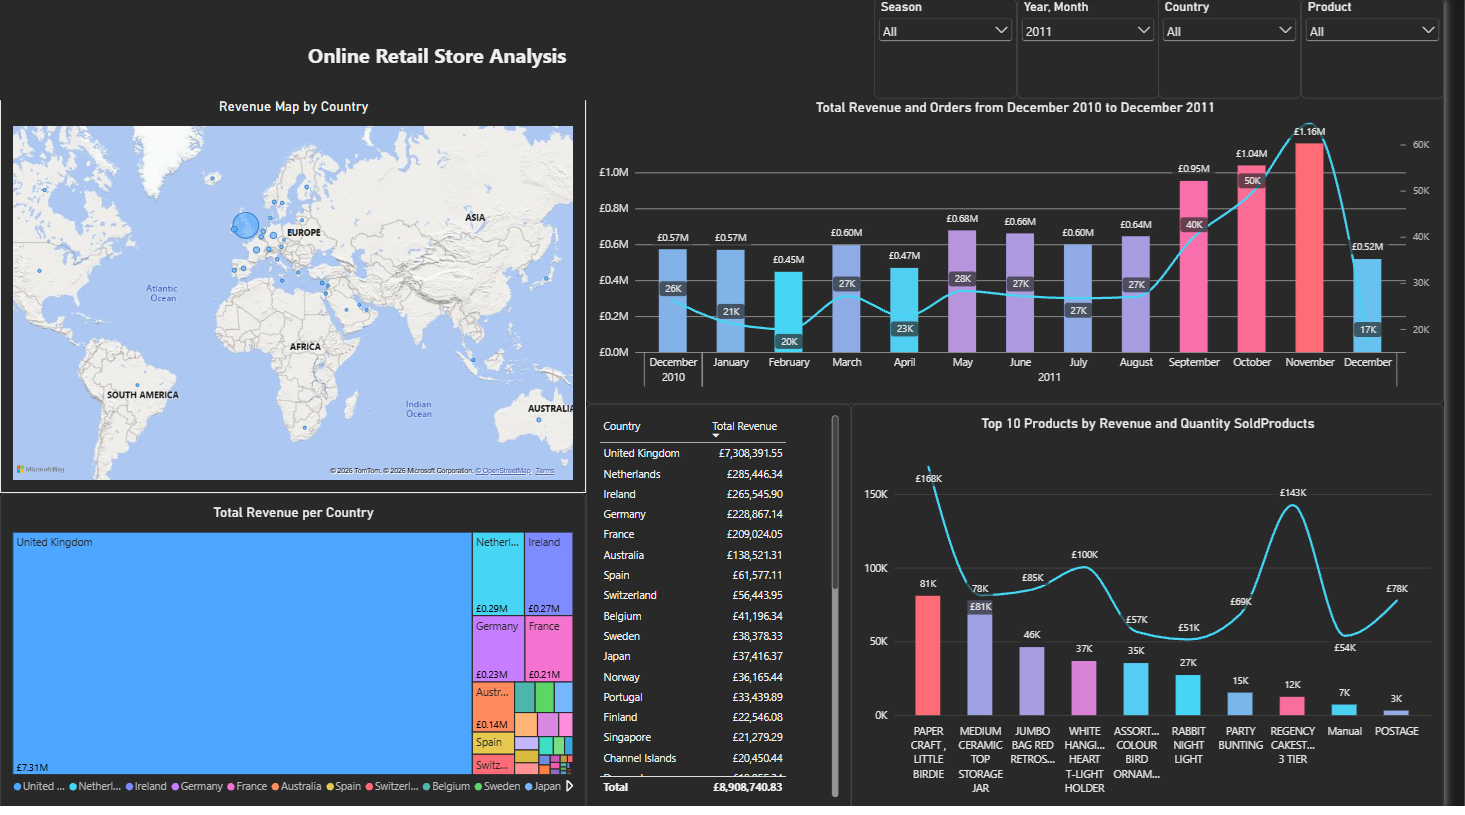

The dashboard page shown, as its layout file describes it:
{"tool":"powerbi","page":{"name":"Sales Overview","canvas":[1920,1080],"ordinal":0},"visuals":[{"type":"lineStackedColumnComboChart","title":"Total Revenue and Orders from December 2010 to December 2011","fields":{"Category":["Sales_data.invoicedate.Variation.Date Hierarchy.Year","Sales_data.invoicedate.Variation.Date Hierarchy.Month"],"Y":["_measures.revenue"],"Y2":["CountNonNull(Sales_data.invoiceno)"]},"box":[779.1,118.2,1140.9,421.6],"z":0},{"type":"map","title":"Revenue Map by Country","fields":{"Category":["Sales_data.country"],"Size":["CountNonNull(Sales_data.Revenue)"]},"box":[0,118.2,779.1,539.8],"z":1000},{"type":"textbox","box":[0,0,1162.5,135.7],"z":2000},{"type":"slicer","fields":{"Values":["analysis_snapshot.analysis_date.Variation.Date Hierarchy.Year","analysis_snapshot.analysis_date.Variation.Date Hierarchy.Month"]},"box":[1352.5,0,189,134],"z":3000},{"type":"slicer","fields":{"Values":["Sales_data.country"]},"box":[1540.7,0,189.7,134.2],"z":4000},{"type":"slicer","fields":{"Values":["Sales_data.description"]},"box":[1730.3,0,189.7,134.2],"z":5000},{"type":"tableEx","fields":{"Values":["Sales_data.country","_measures.revenue"]},"box":[779.1,539.8,353.1,539.8],"z":6000},{"type":"lineClusteredColumnComboChart","title":"Top 10 Products by Revenue and Quantity SoldProducts","fields":{"Category":["Sales_data.description"],"Y":["Sum(Sales_data.quantity)"],"Y2":["_measures.revenue"]},"box":[1132.2,539.8,787.8,539.8],"z":7000},{"type":"treemap","title":"Total Revenue per Country","fields":{"Group":["Sales_data.country"],"Values":["_measures.revenue"]},"box":[0,658,779.1,421.6],"z":8000},{"type":"slicer","fields":{"Values":["Sales_data.Season"]},"box":[1162.5,0,189.7,134.2],"z":8001}]}

Visuals, with their boxes in screenshot pixels (x1, y1, x2, y2), scaled from the page's 1920x1080 canvas onto the 1465x815 screenshot:
"Total Revenue and Orders from December 2010 to December 2011" lineStackedColumnComboChart: l=594, t=89, r=1464, b=407
"Revenue Map by Country" map: l=0, t=89, r=594, b=497
textbox: l=0, t=0, r=887, b=102
slicer - analysis_snapshot.analysis_date.Variation.Date Hierarchy.Year x analysis_snapshot.analysis_date.Variation.Date Hierarchy.Month: l=1032, t=0, r=1176, b=101
slicer - Sales_data.country: l=1176, t=0, r=1320, b=101
slicer - Sales_data.description: l=1320, t=0, r=1464, b=101
tableEx - Sales_data.country x _measures.revenue: l=594, t=407, r=864, b=814
"Top 10 Products by Revenue and Quantity SoldProducts" lineClusteredColumnComboChart: l=864, t=407, r=1464, b=814
"Total Revenue per Country" treemap: l=0, t=497, r=594, b=814
slicer - Sales_data.Season: l=887, t=0, r=1032, b=101
